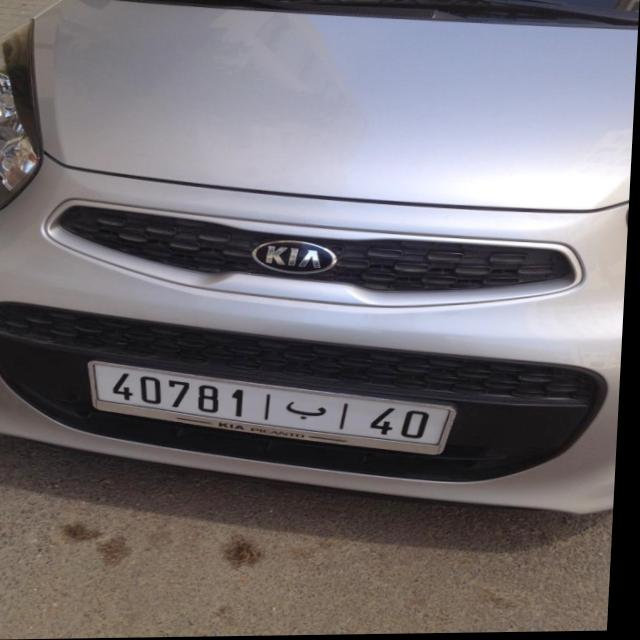License-Plate: (93, 362, 460, 455)
